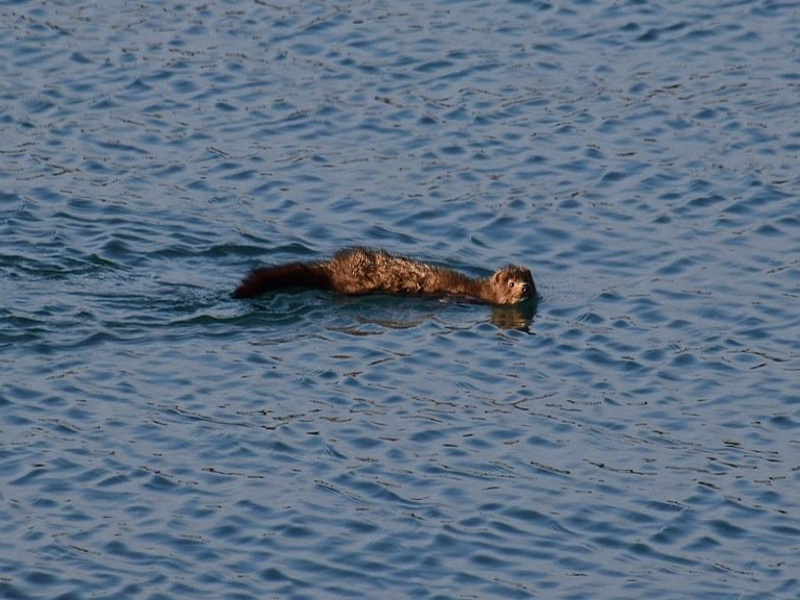minkish: (234, 246, 540, 312)
